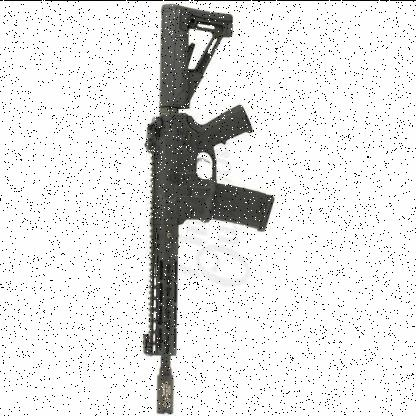rifle: (108, 2, 288, 416)
